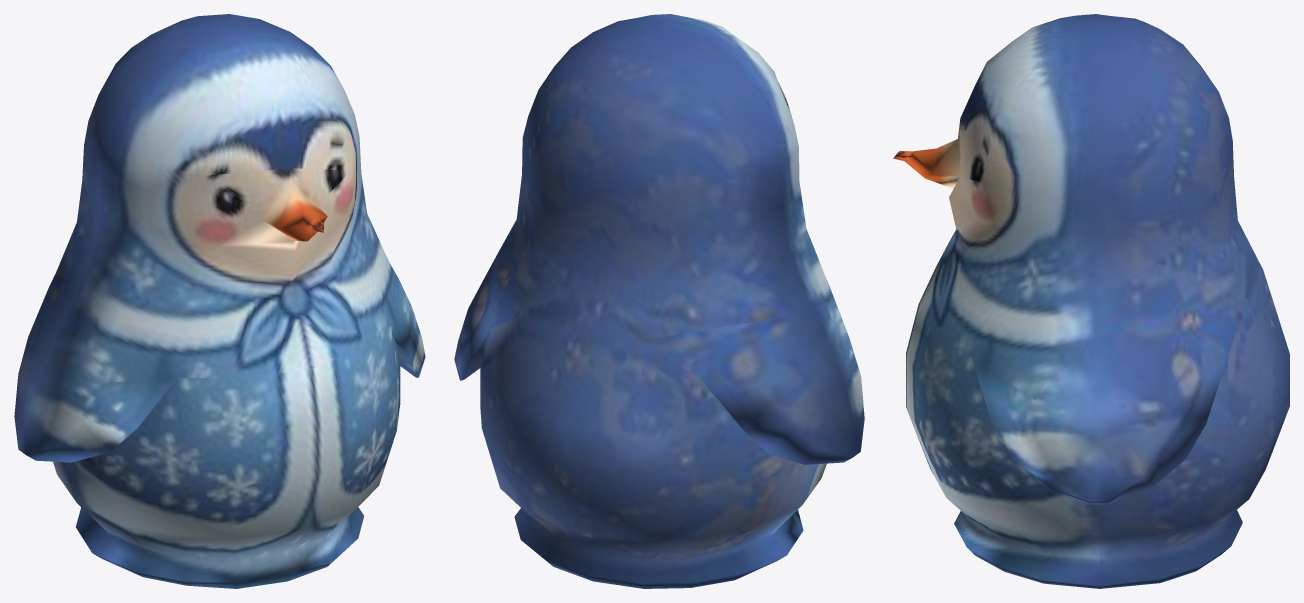
File: penguin-06-23-snow-maiden-penguin-doll.gltf
3 views of the same model, side by side, from view 1: azimuth 30°, elevation 25°; view 2: azimuth 150°, elevation 25°; view 3: azimuth 270°, elevation 25° (orthographic).
Visible parts, largest first — view 1: penguin-06-23-snow-maiden-penguin-doll; view 2: penguin-06-23-snow-maiden-penguin-doll; view 3: penguin-06-23-snow-maiden-penguin-doll.
Part boxes in pixels (bbox=[...]): penguin-06-23-snow-maiden-penguin-doll: bbox=[14, 14, 425, 588]; penguin-06-23-snow-maiden-penguin-doll: bbox=[454, 14, 864, 588]; penguin-06-23-snow-maiden-penguin-doll: bbox=[893, 14, 1289, 588].
Size of the model in its own units: 0.2 by 0.2508 by 0.173.
1 material, 1 textured.
